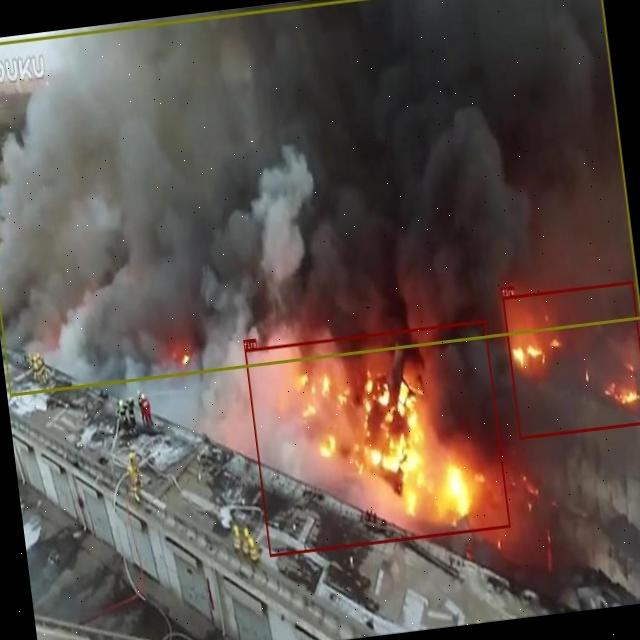fire: (243, 319, 510, 556), (502, 279, 640, 438)
smoke: (0, 0, 640, 395)
